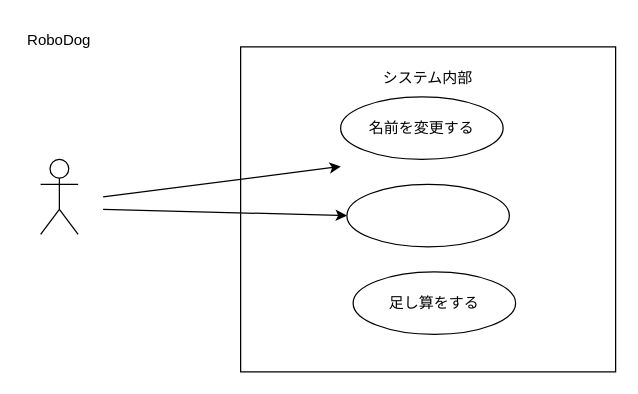
Image size: 638x394. Some labels were removed from this diagram. Each missing label, with the box of its shape:
ユーザー: (39, 158, 78, 234)
学術論文を登録する: (346, 183, 509, 247)
